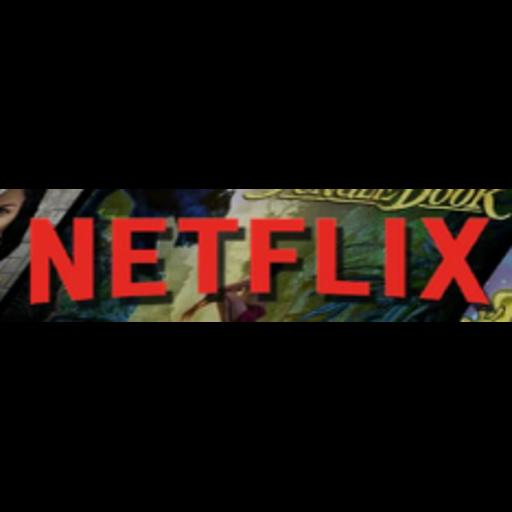Netflix: (0, 189, 512, 322)
